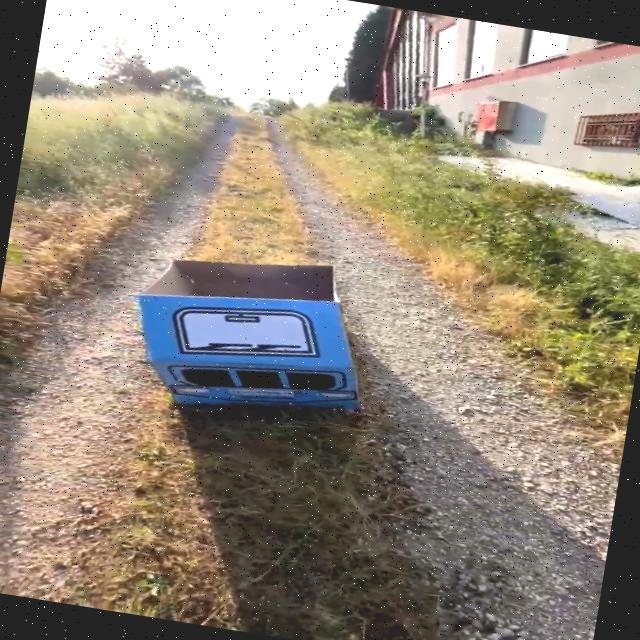blue_car: (92, 204, 446, 465)
